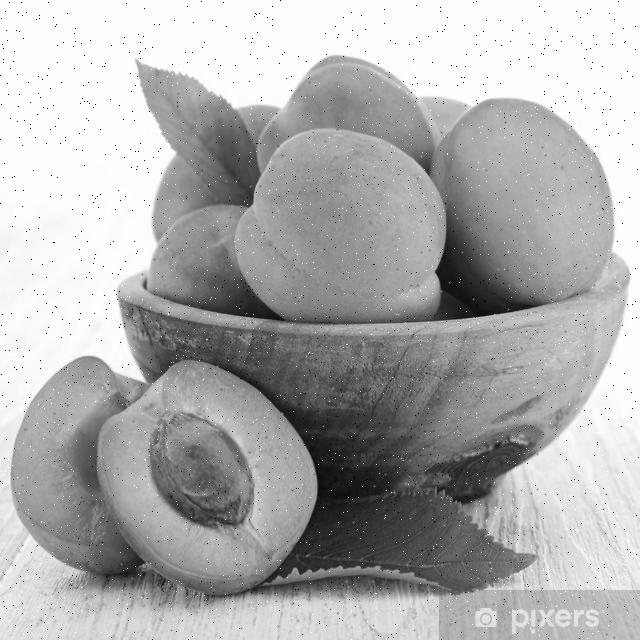cekirdek: (152, 421, 253, 524)
kayisi: (103, 367, 319, 581), (464, 96, 614, 298), (18, 357, 146, 575), (284, 137, 426, 320), (278, 83, 443, 160), (150, 220, 255, 306)
yaprak: (286, 492, 535, 581), (135, 62, 256, 204)
